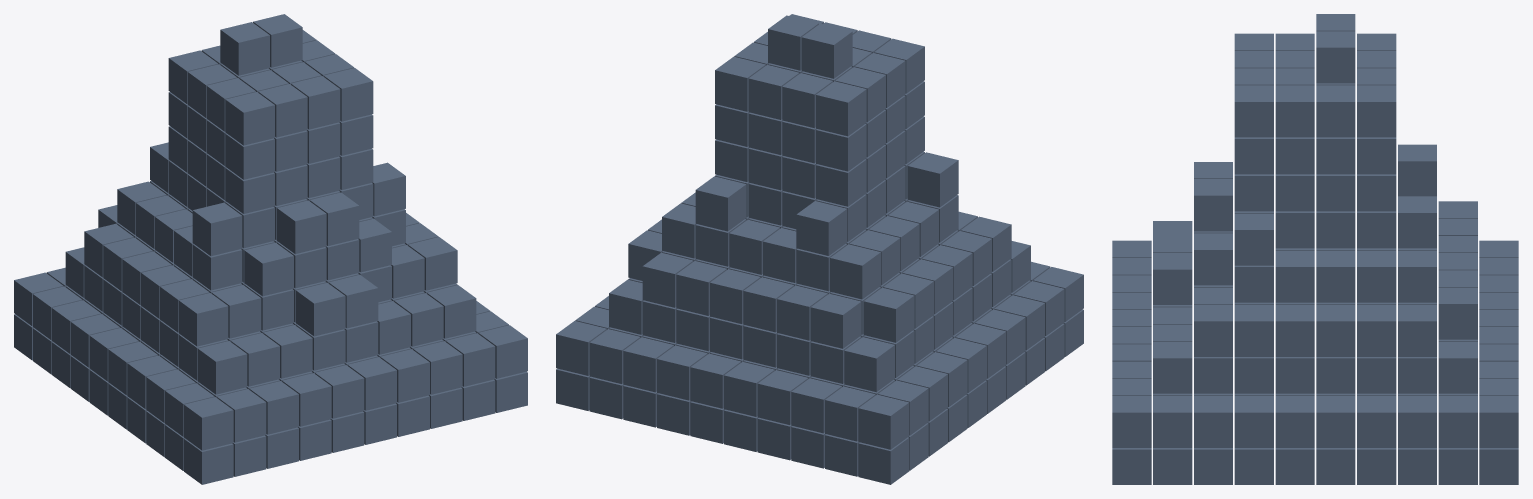
File: stabilized.glb
The picture shows the model from 3 angles, left to right: view 1: azimuth 30°, elevation 25°; view 2: azimuth 150°, elevation 25°; view 3: azimuth 270°, elevation 25°; orthographic projection. The views are drawn at different scales.
Parts seen in each view (by area): view 1: Original blocks; view 2: Original blocks; view 3: Original blocks.
Part boxes in pixels (x1,y1,x2,y2): Original blocks: [14, 14, 527, 484]; Original blocks: [556, 14, 1083, 484]; Original blocks: [1112, 14, 1518, 484].
Bounding box in the file's own units: 0.996 × 0.996 × 0.996.
